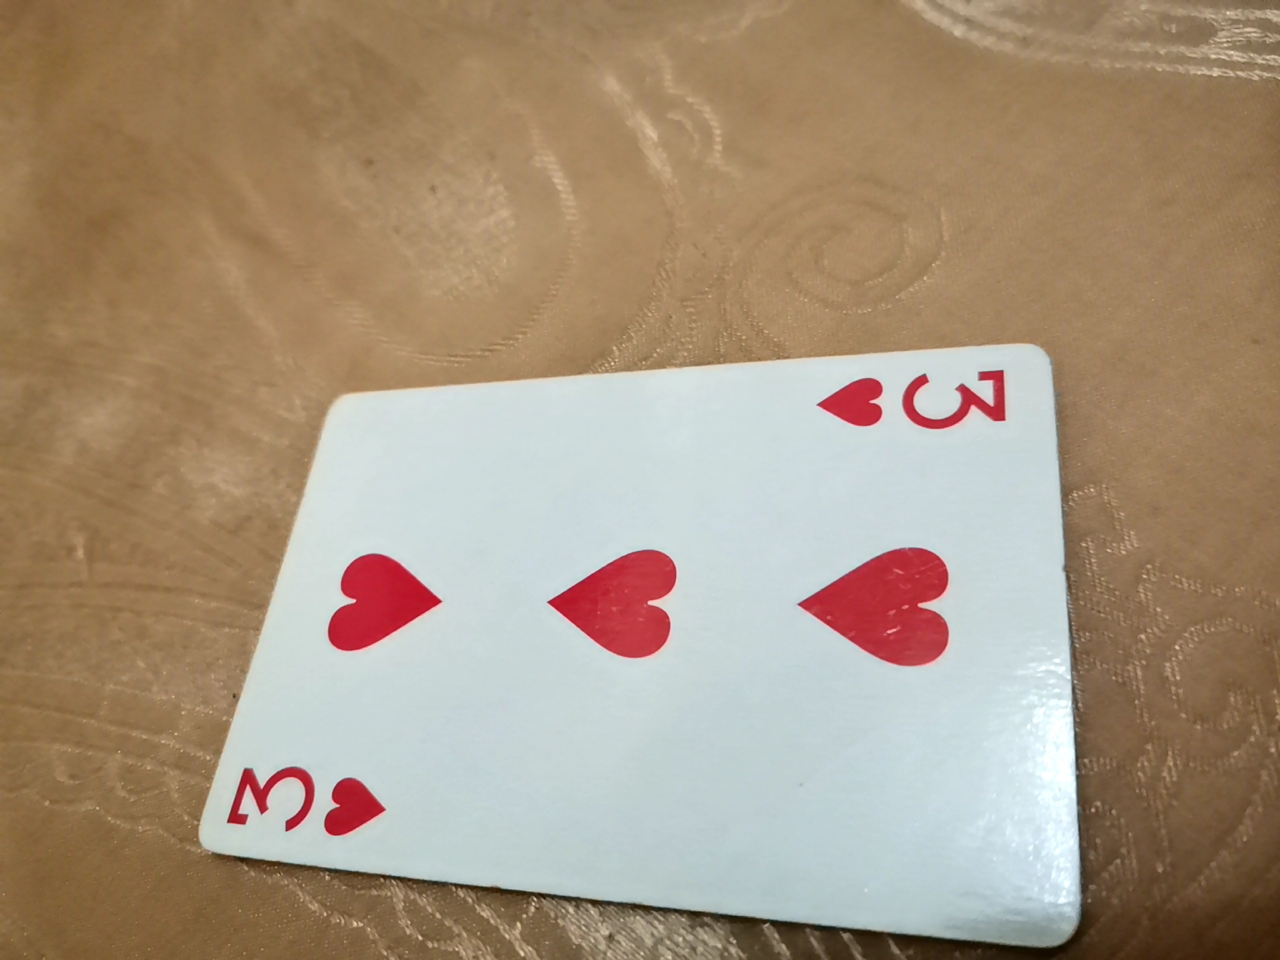hx 3: (167, 382, 1043, 946)
